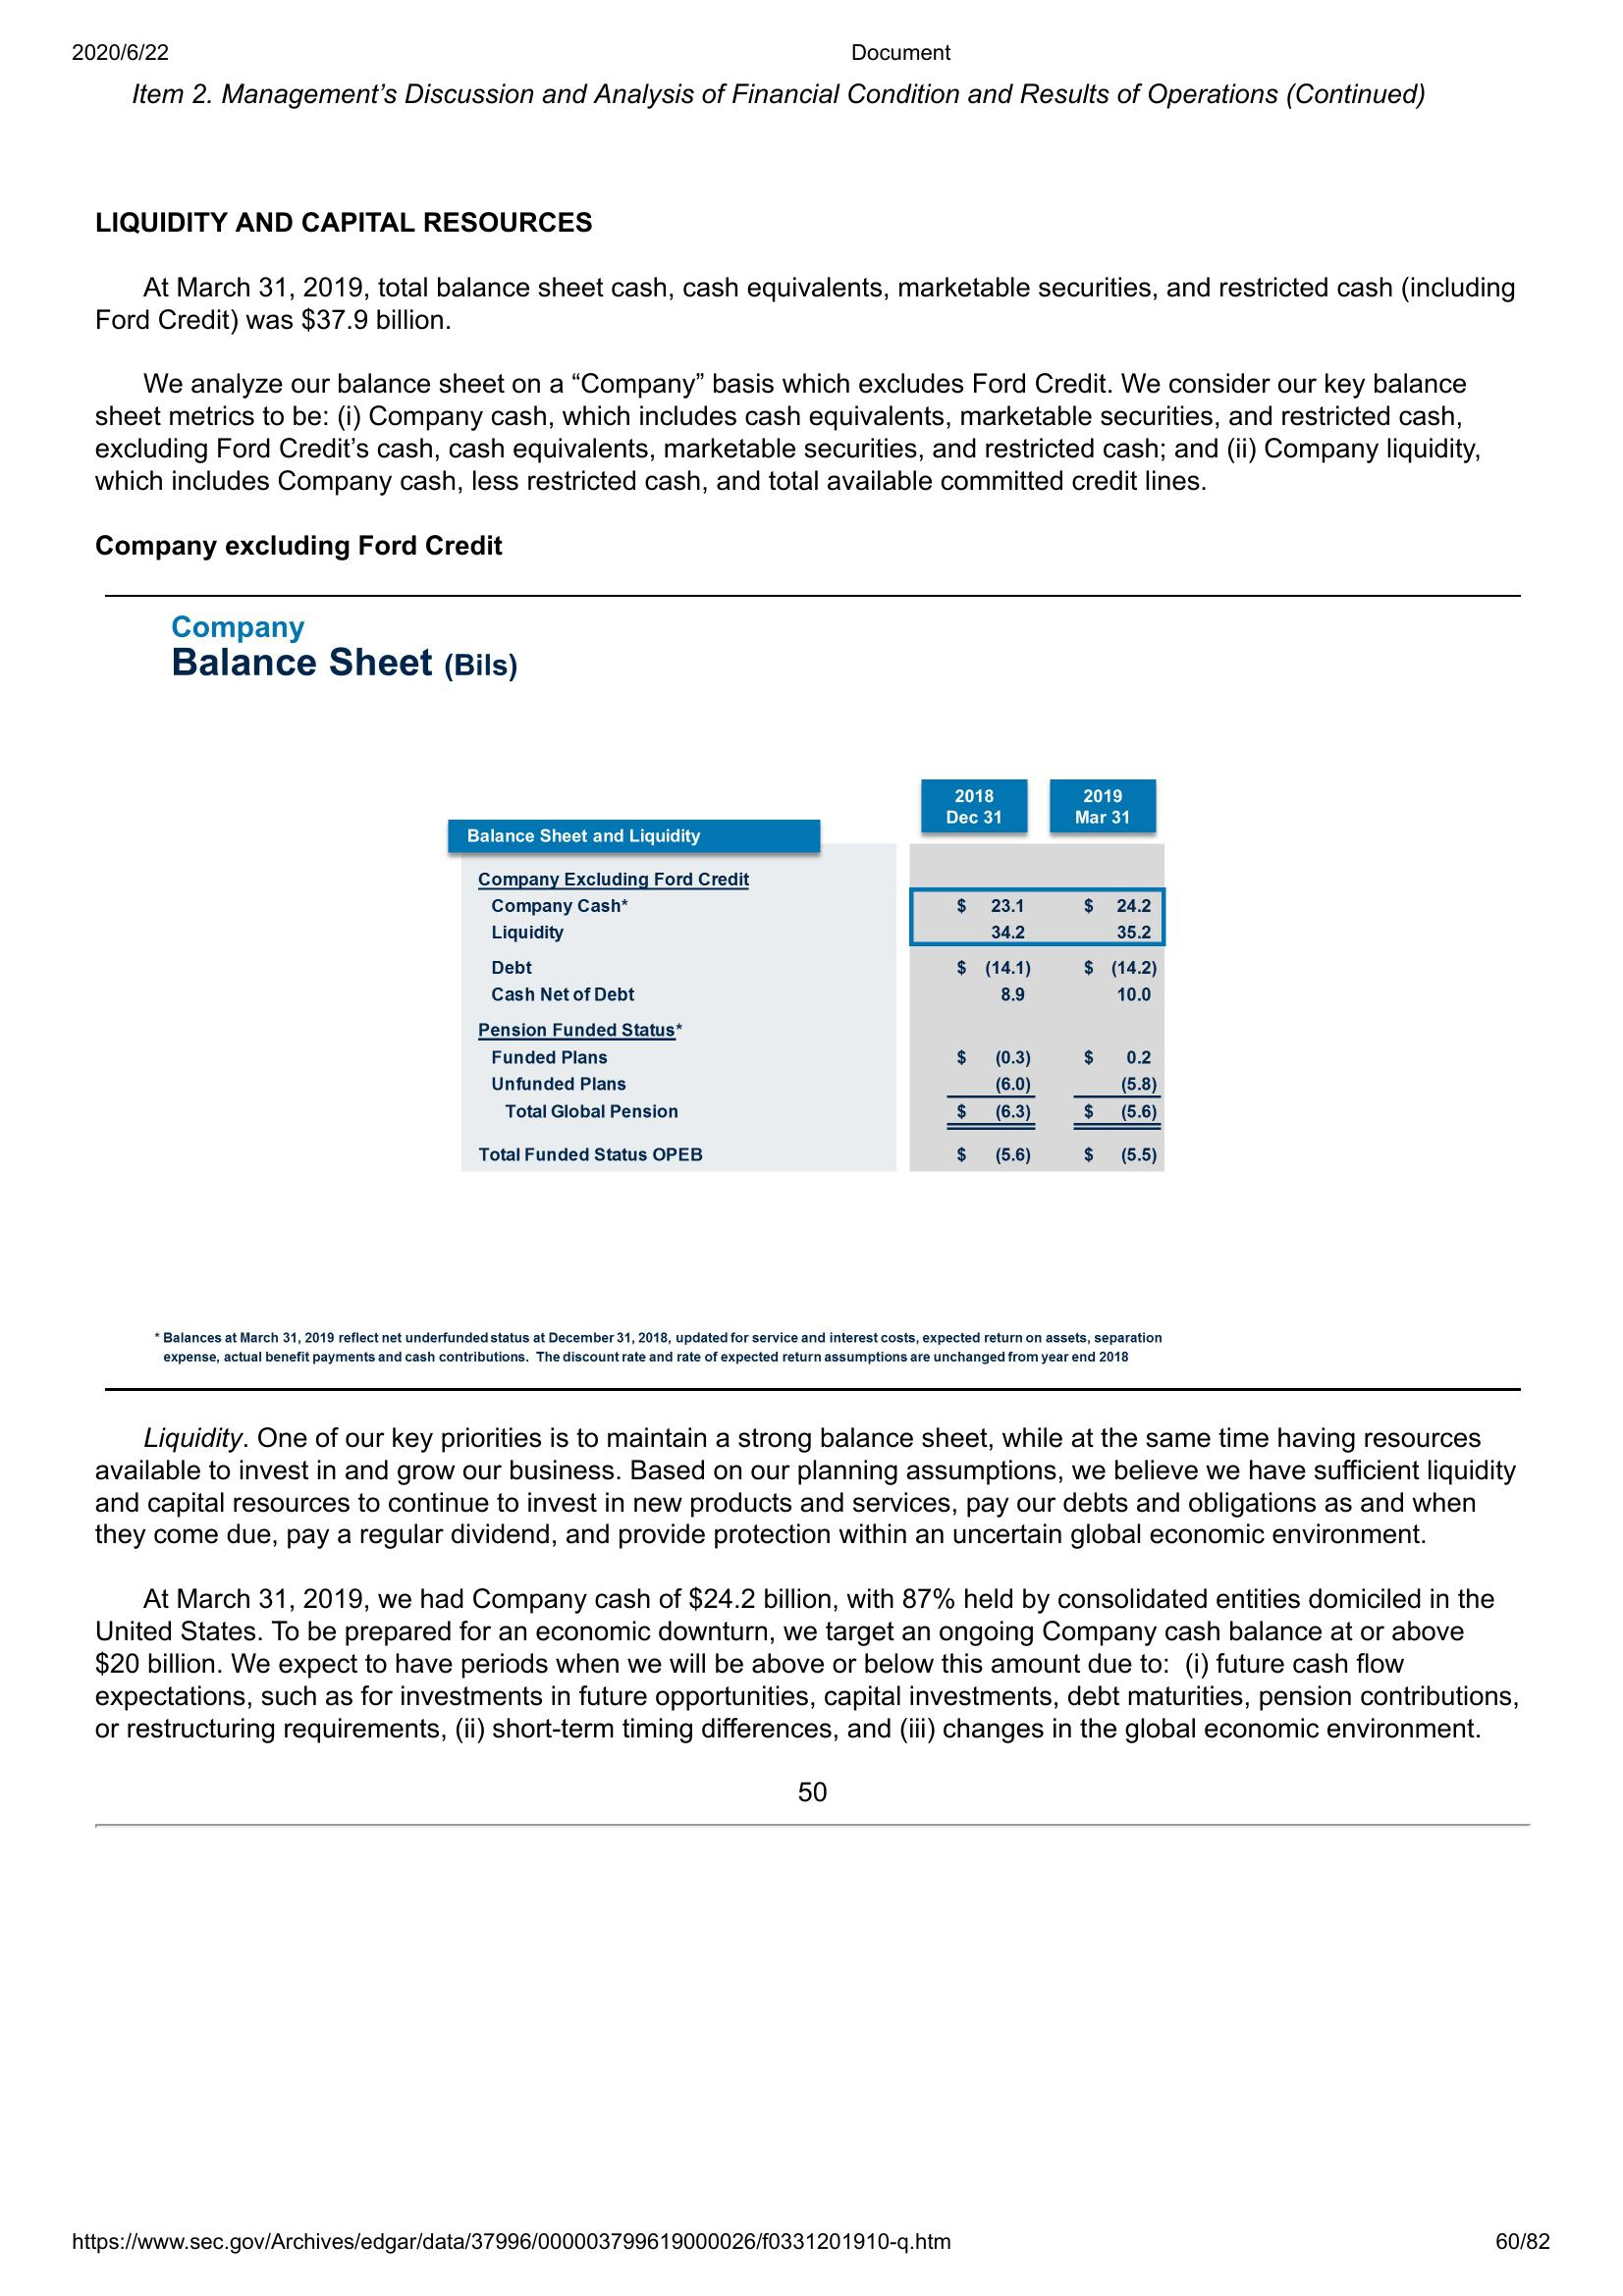table: (451, 772, 1168, 1171)
